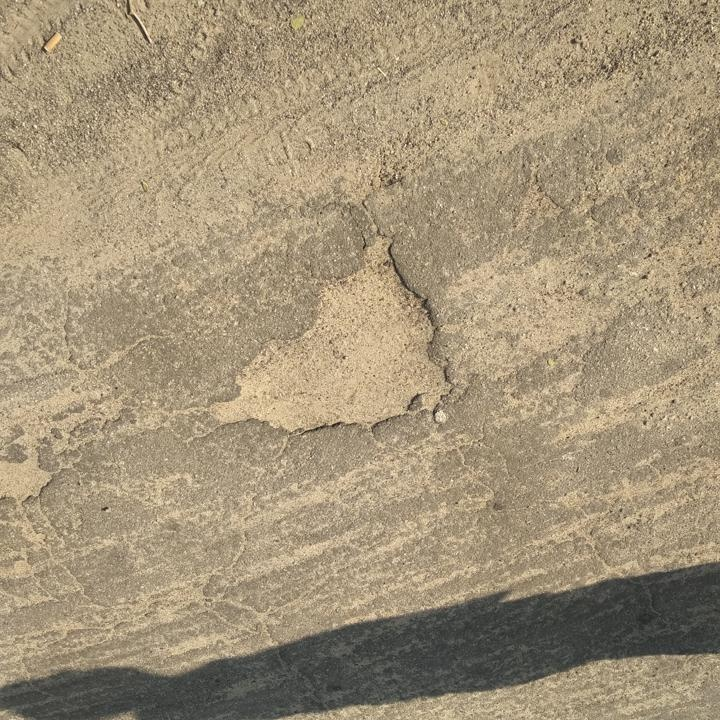pothole: (202, 233, 463, 439), (0, 454, 58, 506)
